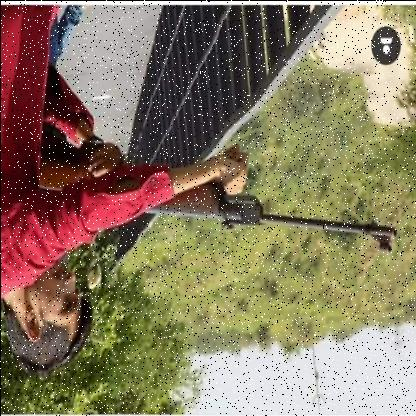rifle: (29, 125, 397, 254)
